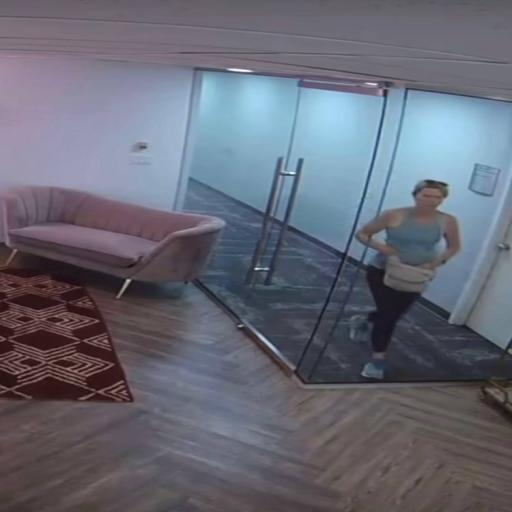elevator: (184, 72, 511, 383), (300, 91, 511, 382)
laptop: (351, 180, 460, 379)
sidewalk: (0, 186, 225, 298)
